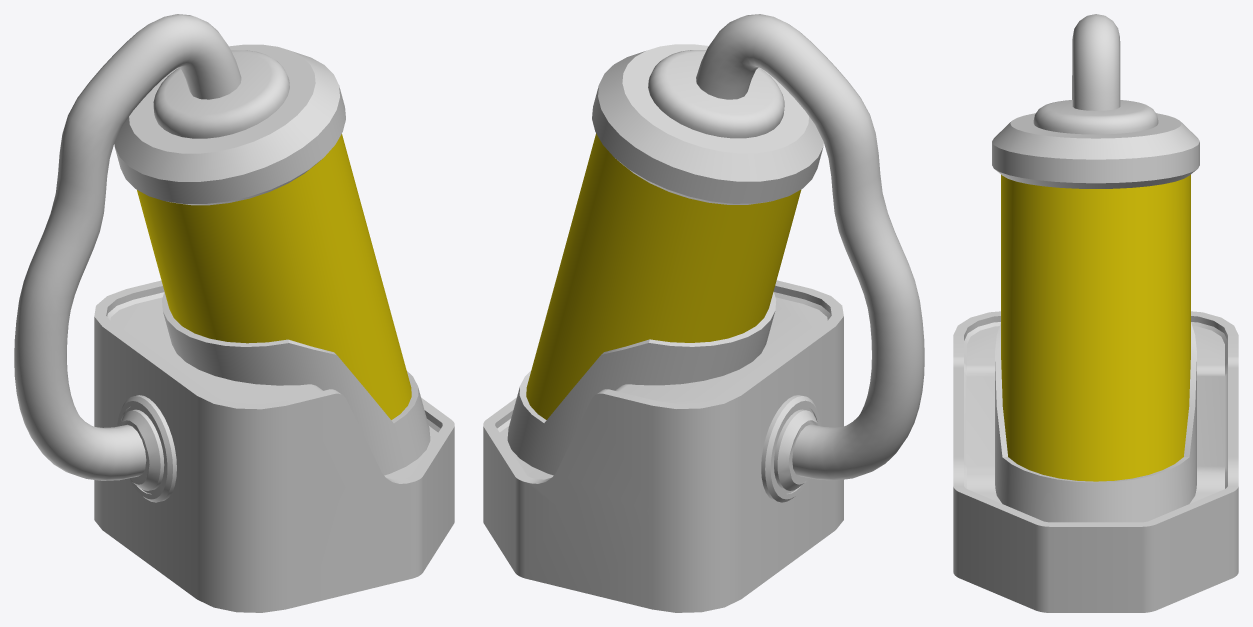
File: stasis.fbx
3 views of the same model, side by side, from view 1: azimuth 30°, elevation 25°; view 2: azimuth 150°, elevation 25°; view 3: azimuth 270°, elevation 25° (orthographic). The views are drawn at different scales.
Parts seen in each view (by area): view 1: Cube.035; view 2: Cube.035; view 3: Cube.035.
Boxes of the visible parts, x1=… form: Cube.035: x1=14, y1=14, x2=454, y2=612; Cube.035: x1=483, y1=14, x2=924, y2=612; Cube.035: x1=953, y1=14, x2=1238, y2=612.
Size of the model in its own units: 195 by 247 by 132.
